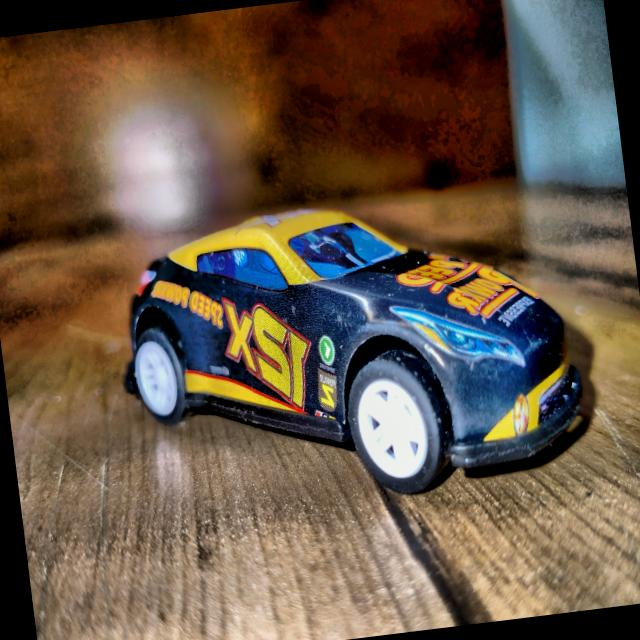Car: (109, 178, 592, 526)
